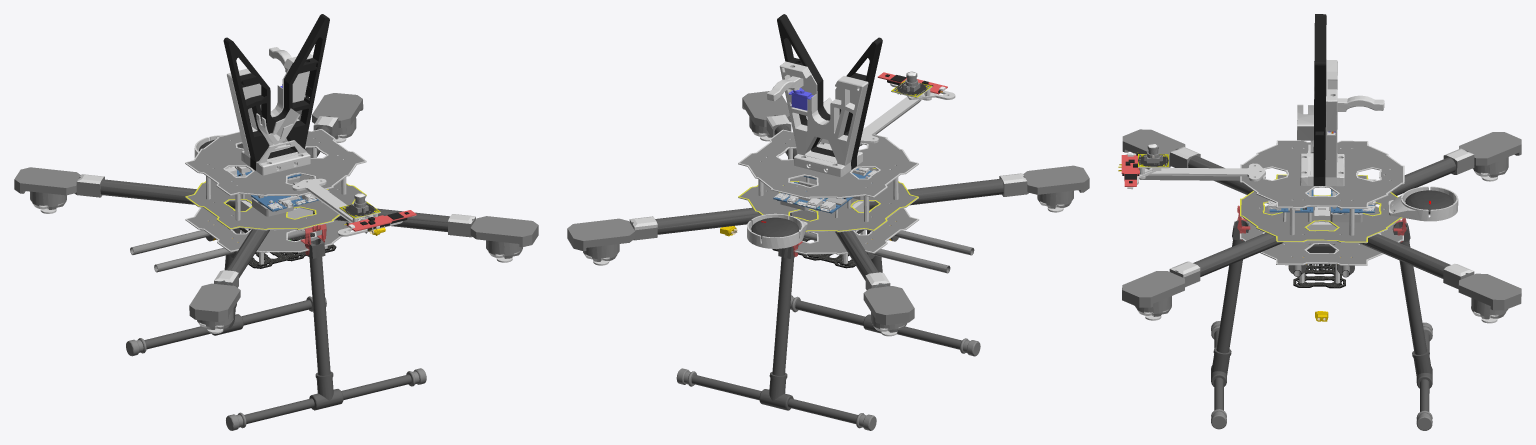
File: tarot650_model_v2_smaller_paper.dae
The picture shows the model from 3 angles, left to right: view 1: azimuth 30°, elevation 25°; view 2: azimuth 150°, elevation 25°; view 3: azimuth 270°, elevation 25°; orthographic projection.
Visible parts, largest first — view 1: TAROT650_mode_v2; view 2: TAROT650_mode_v2; view 3: TAROT650_mode_v2.
Boxes of the visible parts, x1,y1,x2,y2 form: TAROT650_mode_v2: (14,14,538,430); TAROT650_mode_v2: (567,14,1089,430); TAROT650_mode_v2: (1118,14,1521,430).
Bounding box in the file's own units: 0.4955 × 0.5003 × 0.4733.
Materials: 122 (2 with a texture image).
